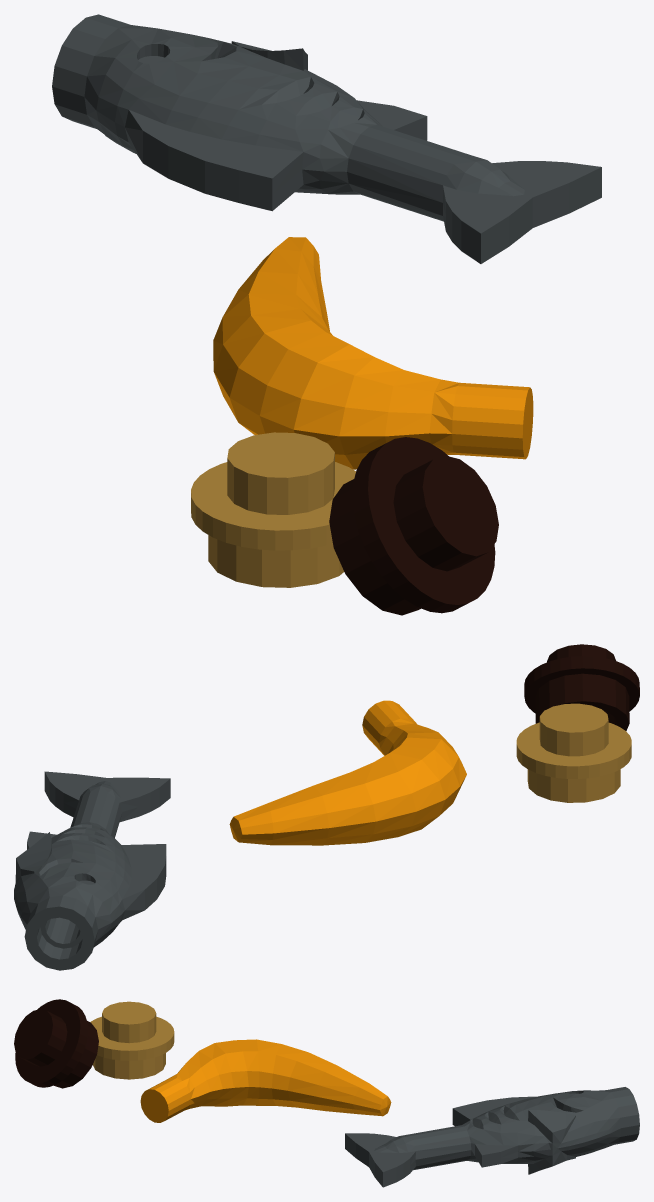
The model's file is Garbage Truck.dae.
3 views of the same model, one above another, from view 1: azimuth 30°, elevation 25°; view 2: azimuth 150°, elevation 25°; view 3: azimuth 270°, elevation 25° (orthographic). The views are drawn at different scales.
Parts seen in each view (by area): view 1: Part_64648.1, Part_33085.2, Part_4073.4, Part_4073.3; view 2: Part_64648.1, Part_33085.2, Part_4073.3, Part_4073.4; view 3: Part_64648.1, Part_33085.2, Part_4073.4, Part_4073.3.
Boxes of the visible parts, bbox=[...] form: Part_64648.1: bbox=[52, 14, 601, 263]; Part_33085.2: bbox=[213, 237, 533, 469]; Part_4073.4: bbox=[329, 437, 498, 615]; Part_4073.3: bbox=[191, 432, 355, 587]; Part_64648.1: bbox=[14, 771, 170, 970]; Part_33085.2: bbox=[229, 700, 466, 845]; Part_4073.3: bbox=[516, 703, 631, 802]; Part_4073.4: bbox=[524, 644, 639, 730]; Part_64648.1: bbox=[345, 1087, 639, 1187]; Part_33085.2: bbox=[140, 1039, 391, 1122]; Part_4073.4: bbox=[14, 999, 98, 1088]; Part_4073.3: bbox=[90, 1001, 174, 1079].
Size of the model in its own units: 33.37 by 7.87 by 55.4.
